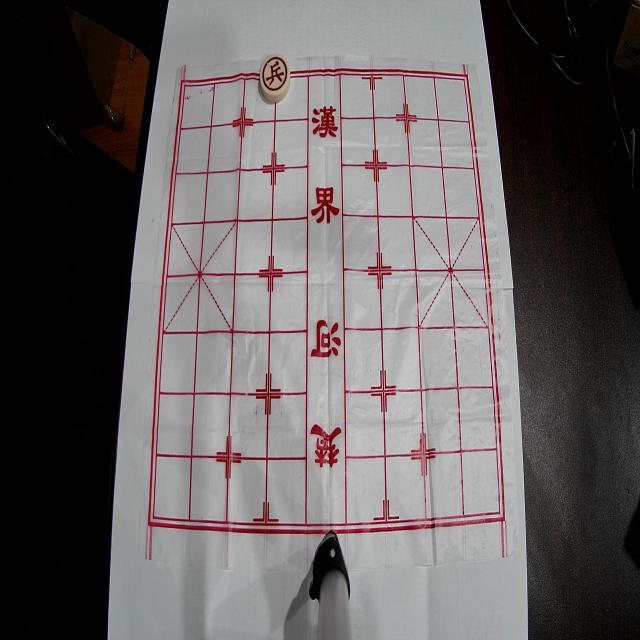red-soldier: (260, 54, 290, 102)
